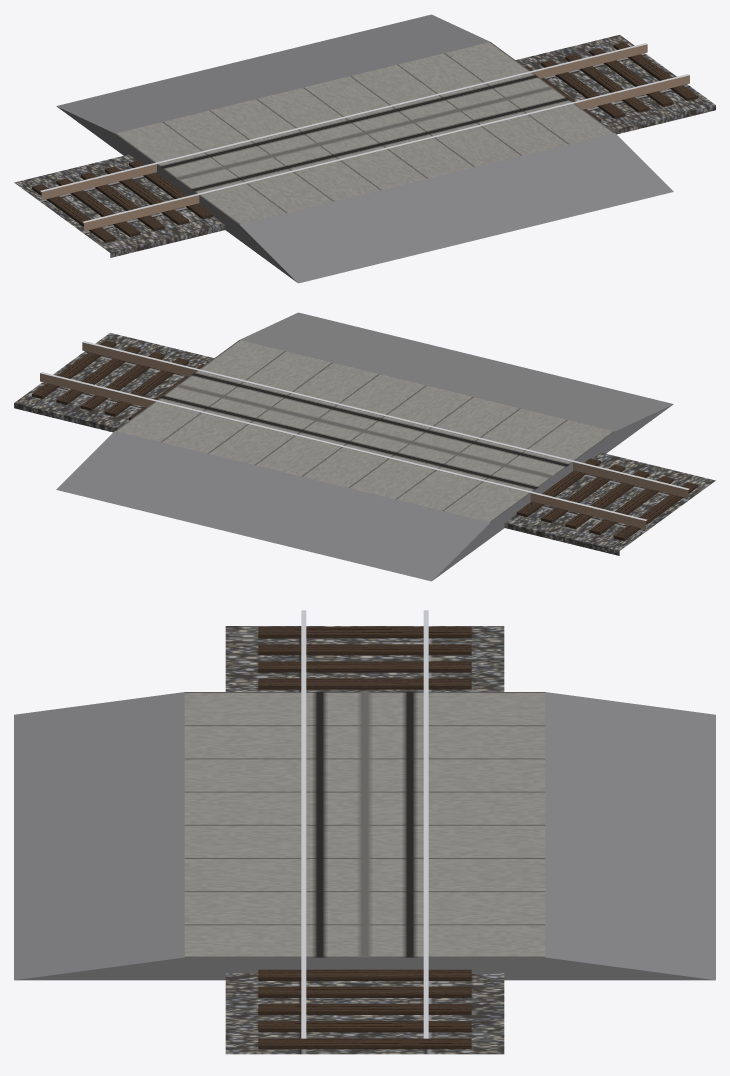
Rendered from kolej_prejezd_drevo_siroka.glb.
3 renders of one model, top to bottom at view 1: azimuth 30°, elevation 25°; view 2: azimuth 150°, elevation 25°; view 3: azimuth 270°, elevation 25°, orthographic. The views are drawn at different scales.
Visible parts, largest first — view 1: kolej_prejezd_drevo_siroka; view 2: kolej_prejezd_drevo_siroka; view 3: kolej_prejezd_drevo_siroka.
Boxes of the visible parts, bbox=[...] form: kolej_prejezd_drevo_siroka: bbox=[14, 14, 715, 283]; kolej_prejezd_drevo_siroka: bbox=[14, 312, 715, 581]; kolej_prejezd_drevo_siroka: bbox=[14, 610, 715, 1054].
Bounding box in the file's own units: 14.84 × 0.373 × 10.28.
Materials: 6 (3 with a texture image).
